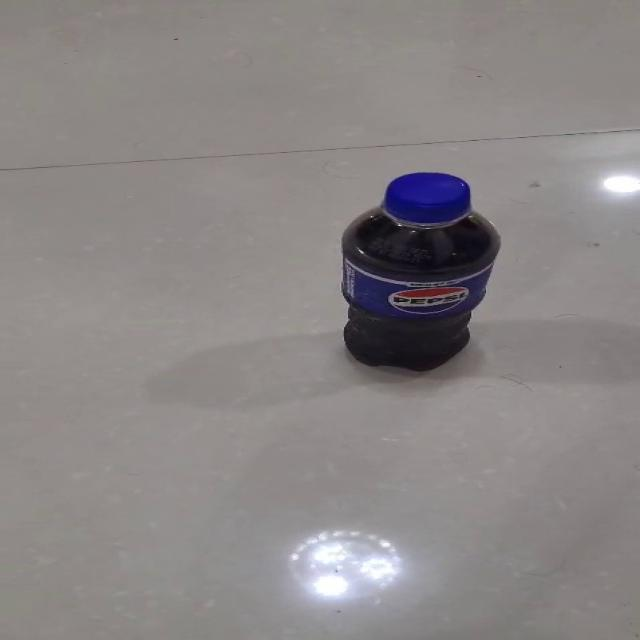plastic: (338, 171, 501, 372)
